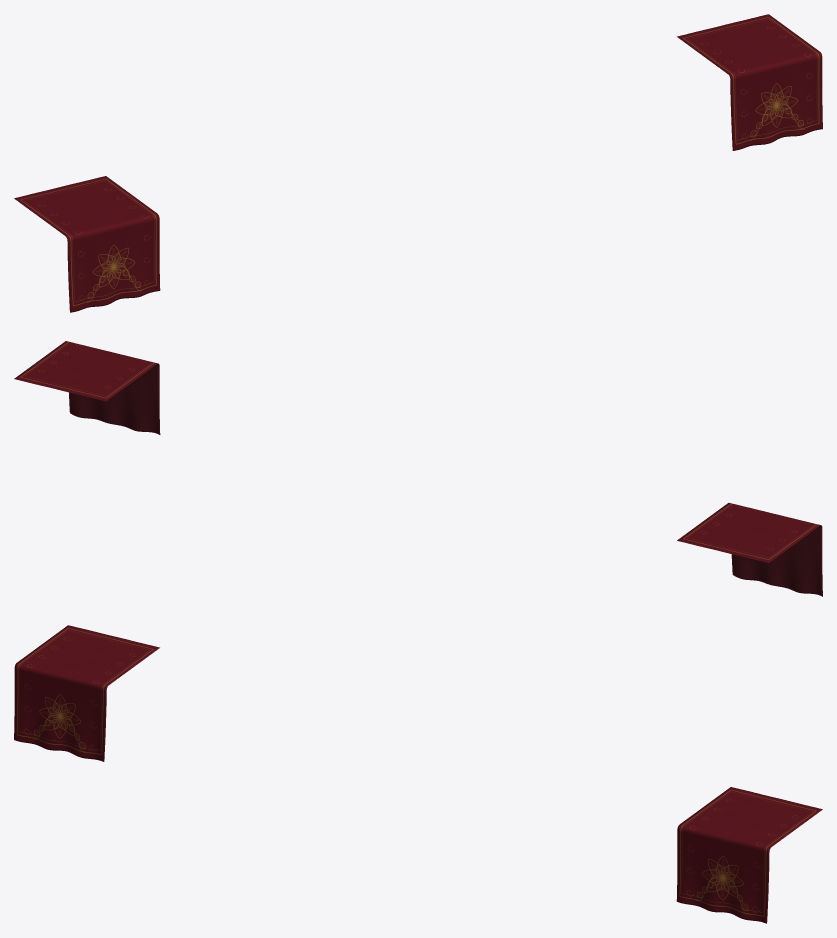
The model's file is altar-brocade.glb.
The picture shows the model from 3 angles, top to bottom: view 1: azimuth 30°, elevation 25°; view 2: azimuth 150°, elevation 25°; view 3: azimuth 330°, elevation 25°; orthographic projection.
Visible parts, largest first — view 1: Altar brocade | paired silk runner; view 2: Altar brocade | paired silk runner; view 3: Altar brocade | paired silk runner.
Boxes of the visible parts, <box> form: Altar brocade | paired silk runner: <box>14,14,822,312</box>; Altar brocade | paired silk runner: <box>14,341,822,596</box>; Altar brocade | paired silk runner: <box>14,625,822,923</box>.
Bounding box in the file's own units: 4.92 × 0.4697 × 0.6289.
Materials: 2 (1 with a texture image).
